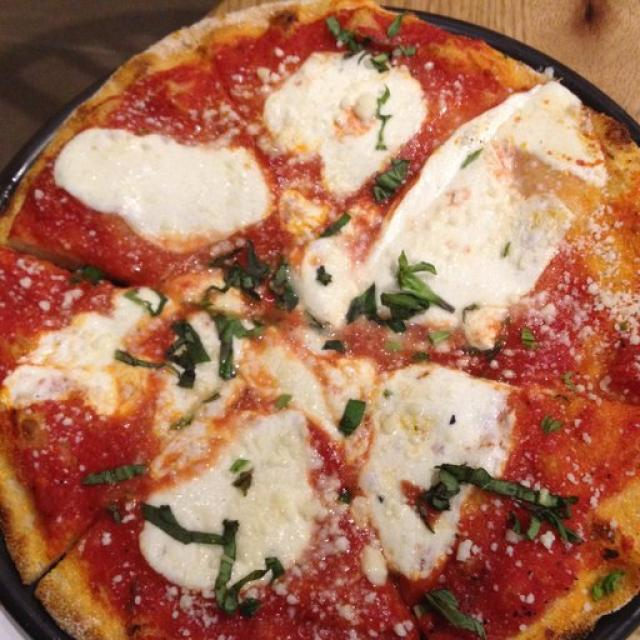Basil: (139, 500, 290, 613), (421, 463, 586, 549), (353, 255, 447, 332), (114, 320, 206, 382), (220, 245, 298, 307), (320, 18, 417, 67), (204, 310, 258, 376), (76, 272, 166, 310), (418, 596, 485, 640), (370, 88, 398, 152), (375, 173, 415, 211), (84, 464, 144, 481), (588, 570, 622, 598)
Cheese: (383, 89, 602, 340), (129, 412, 307, 592), (363, 377, 507, 584), (63, 132, 270, 242), (266, 57, 418, 172), (0, 299, 148, 415), (263, 339, 346, 432), (304, 237, 355, 337)
Pizza: (0, 0, 640, 640)
